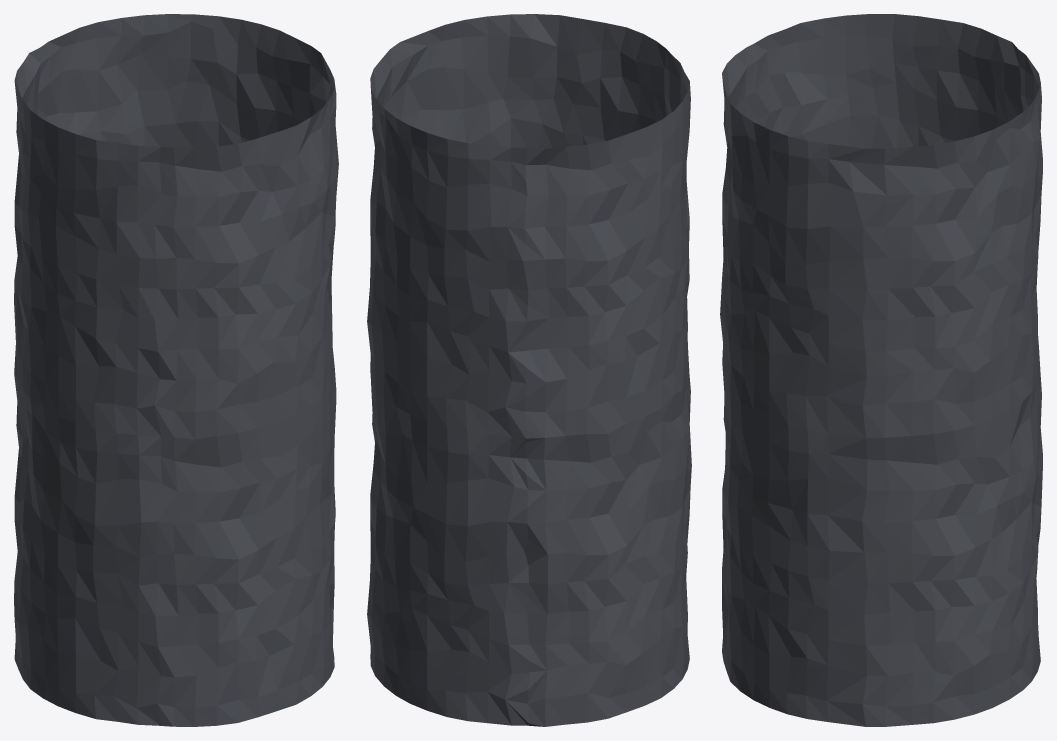
File: map_004.FBX
3 views of the same model, side by side, from view 1: azimuth 30°, elevation 25°; view 2: azimuth 150°, elevation 25°; view 3: azimuth 270°, elevation 25° (orthographic).
Parts seen in each view (by area): view 1: Map_004; view 2: Map_004; view 3: Map_004.
Boxes of the visible parts, left/top/right/bottom form: Map_004: left=14, top=14, right=338, bottom=726; Map_004: left=367, top=14, right=691, bottom=726; Map_004: left=720, top=14, right=1042, bottom=726.
Bounding box in the file's own units: 12.01 × 24 × 12.15.
